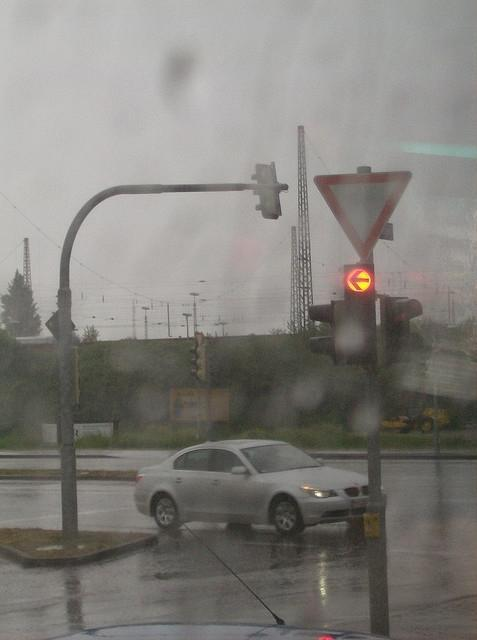car: (129, 436, 371, 542)
